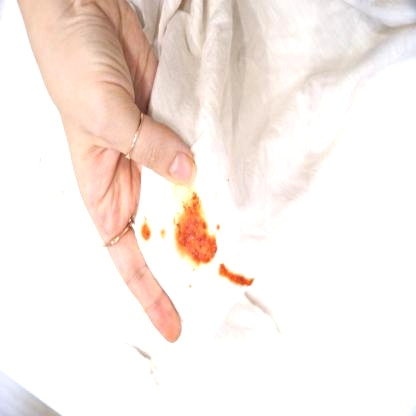kimchi: (174, 201, 218, 265), (213, 265, 254, 291), (136, 220, 155, 242), (157, 227, 167, 242), (222, 179, 233, 188), (216, 223, 224, 235), (188, 265, 197, 275), (186, 288, 192, 293)
